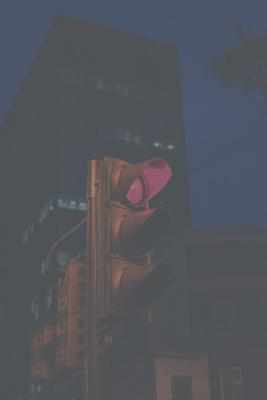International Road Signal Light: (99, 155, 176, 318)
